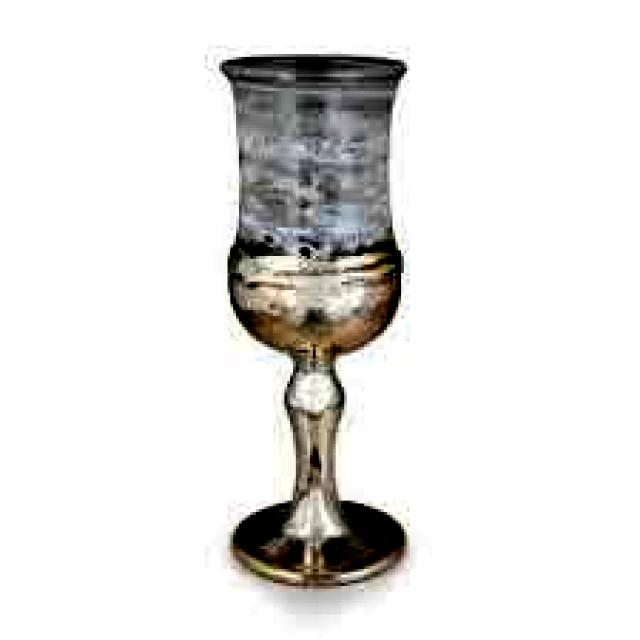Glass: (215, 51, 412, 584)
